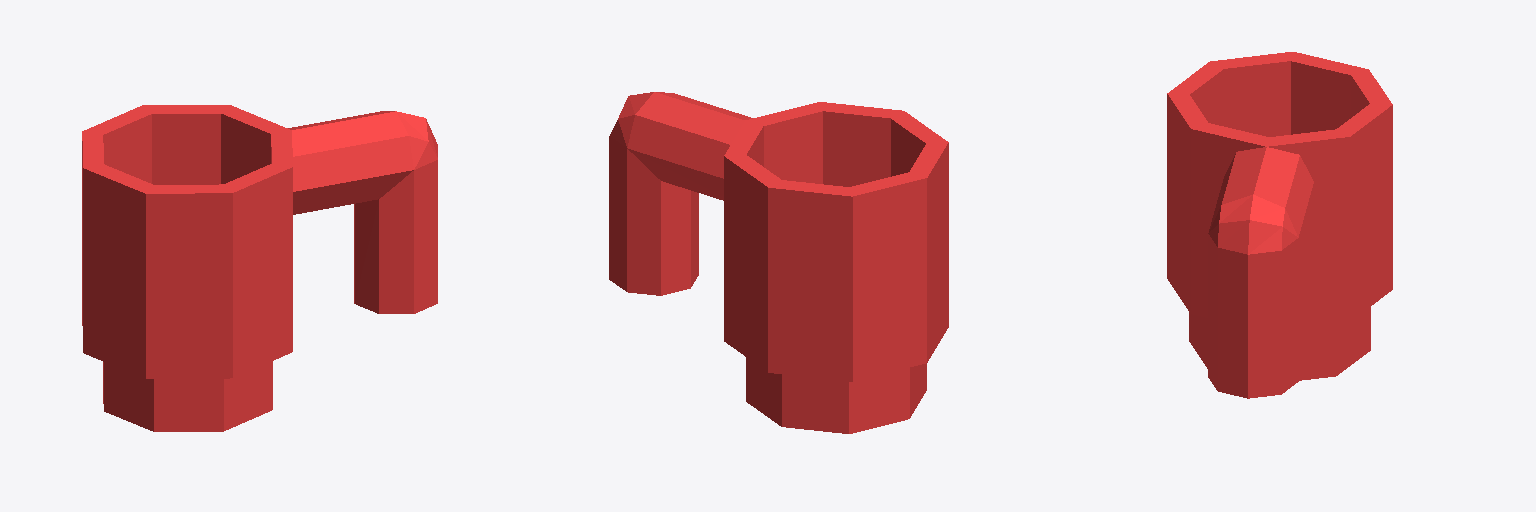
3 views of the same model, side by side, from view 1: azimuth 30°, elevation 25°; view 2: azimuth 150°, elevation 25°; view 3: azimuth 270°, elevation 25° (orthographic).
Parts seen in each view (by area): view 1: Mesh_0034_Mesh_0034Mesh; view 2: Mesh_0034_Mesh_0034Mesh; view 3: Mesh_0034_Mesh_0034Mesh.
Boxes of the visible parts, <box> form: Mesh_0034_Mesh_0034Mesh: <box>82,105,437,431</box>; Mesh_0034_Mesh_0034Mesh: <box>609,92,948,433</box>; Mesh_0034_Mesh_0034Mesh: <box>1167,52,1392,398</box>.
Bounding box in the file's own units: 0.1286 × 0.0914 × 0.0757.
1 materials, 1 textured.